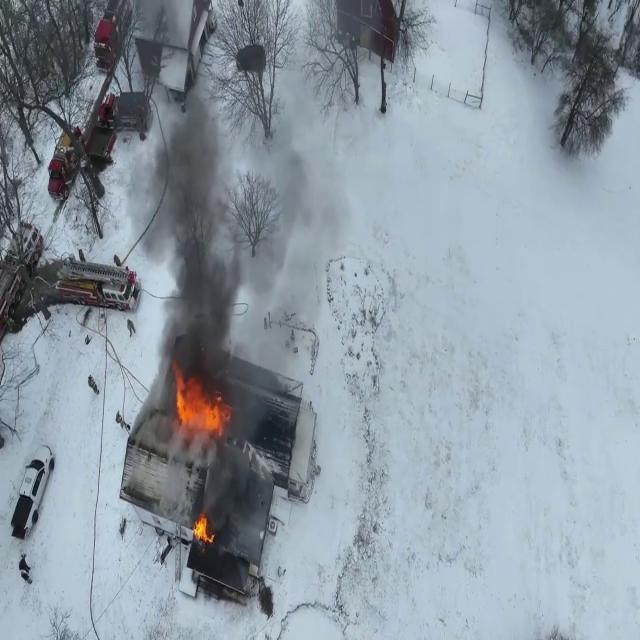Fire: (168, 364, 234, 444), (188, 506, 214, 552)
Smoke: (135, 73, 250, 363)
